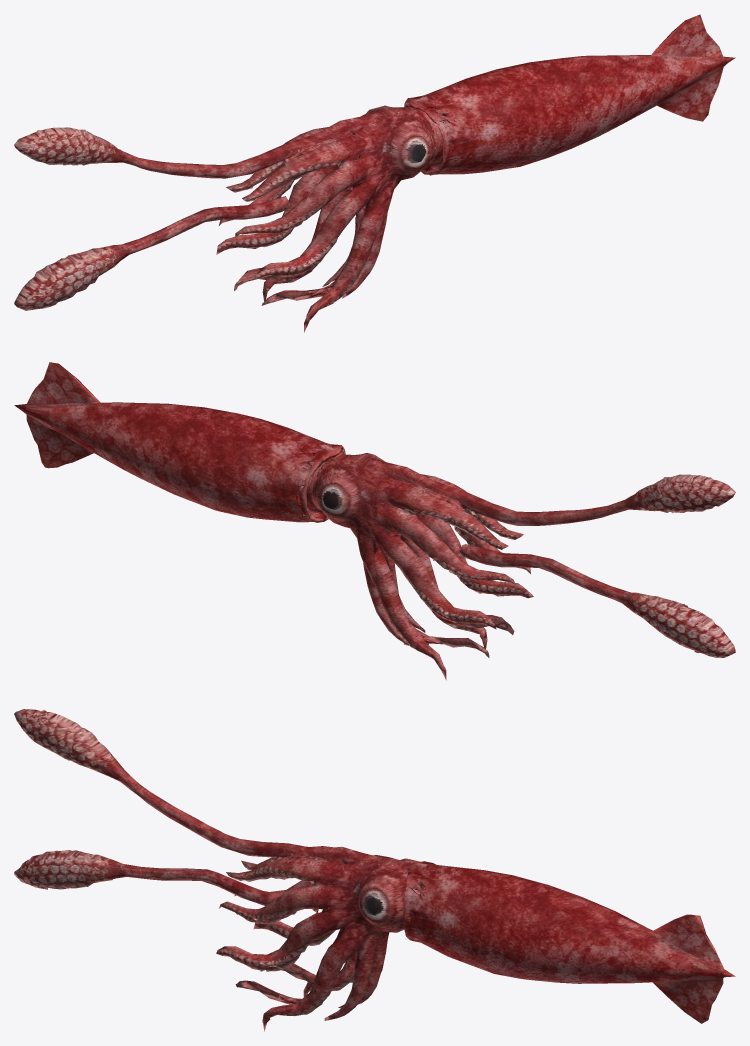
File: giantsquid.glb
3 views of the same model, one above another, from view 1: azimuth 30°, elevation 25°; view 2: azimuth 150°, elevation 25°; view 3: azimuth 330°, elevation 25° (orthographic).
Parts seen in each view (by area): view 1: giantsquid; view 2: giantsquid; view 3: giantsquid.
Boxes of the visible parts, x1,y1,x2,y2 form: giantsquid: (14,14,735,332); giantsquid: (14,362,735,680); giantsquid: (14,709,735,1031).
Bounding box in the file's own units: 2 × 0.656 × 0.2359.
Materials: 1 (1 with a texture image).
